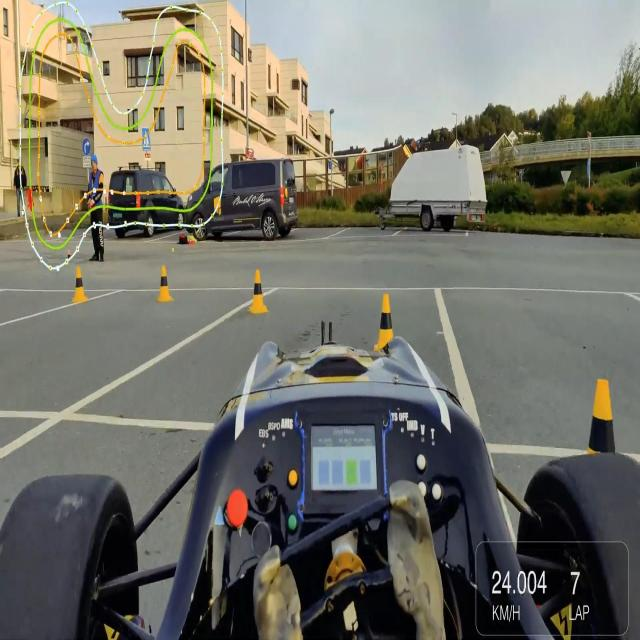yellow_cone: (576, 373, 628, 532), (374, 292, 396, 357), (249, 272, 269, 319), (156, 263, 176, 308), (72, 266, 88, 309)
